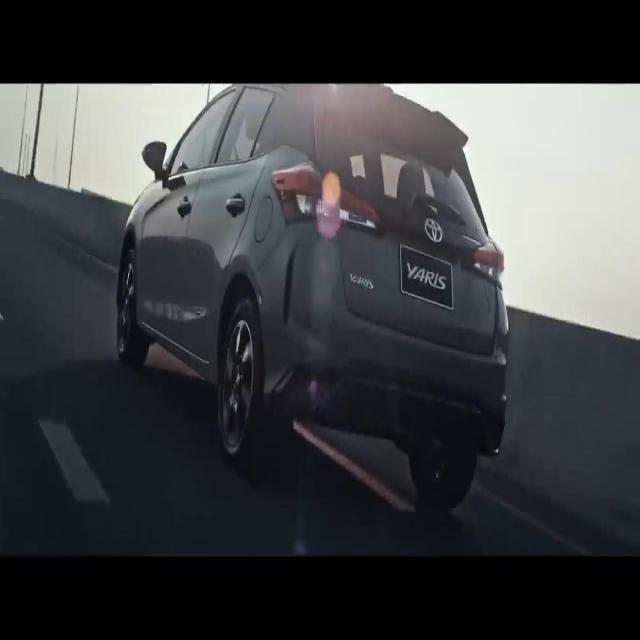Hatchback: (115, 84, 509, 511)
